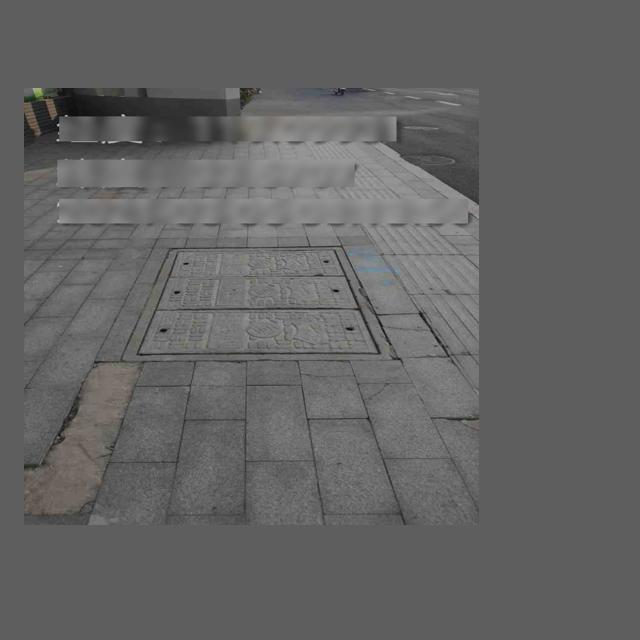good: (118, 246, 396, 361)
